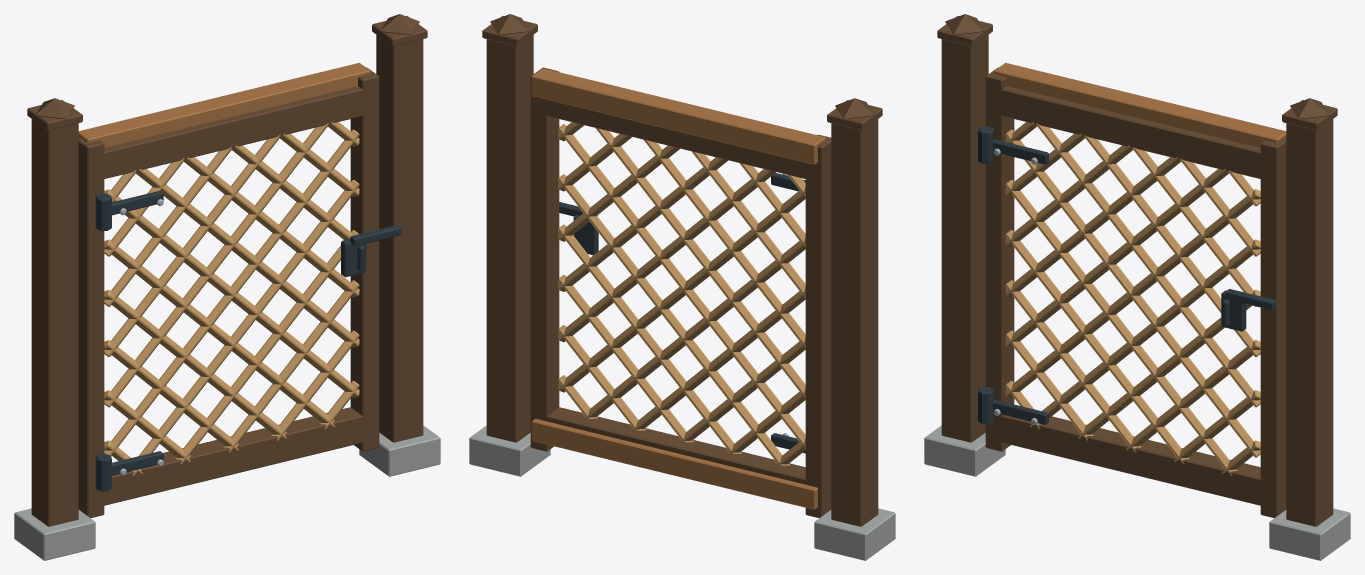
The model's file is b19_lattice_trellis_gate.glb.
3 renders of one model, left to right at view 1: azimuth 30°, elevation 25°; view 2: azimuth 150°, elevation 25°; view 3: azimuth 330°, elevation 25°, orthographic.
Parts seen in each view (by area): view 1: b19_lattice_trellis_gate; view 2: b19_lattice_trellis_gate; view 3: b19_lattice_trellis_gate.
Boxes of the visible parts, left/top/right/bottom form: b19_lattice_trellis_gate: left=14, top=14, right=440, bottom=560; b19_lattice_trellis_gate: left=469, top=14, right=895, bottom=560; b19_lattice_trellis_gate: left=924, top=14, right=1350, bottom=560.
Bounding box in the file's own units: 1.82 × 1.95 × 0.3147.
